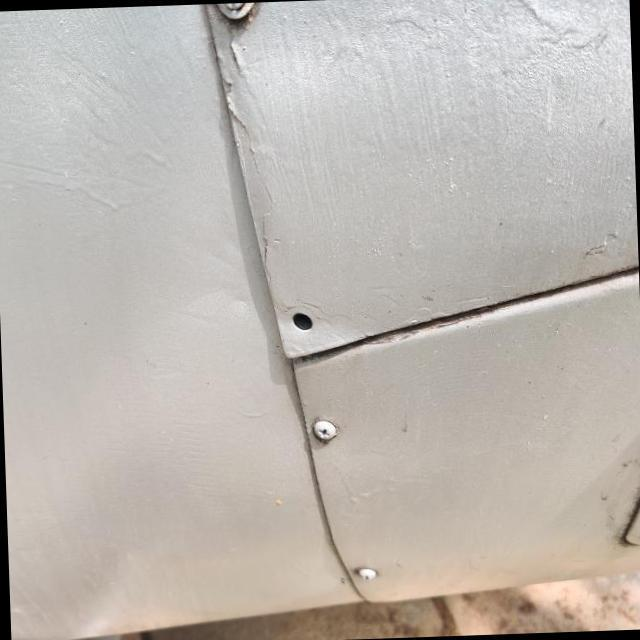Missing Fastener: (290, 312, 310, 330)
